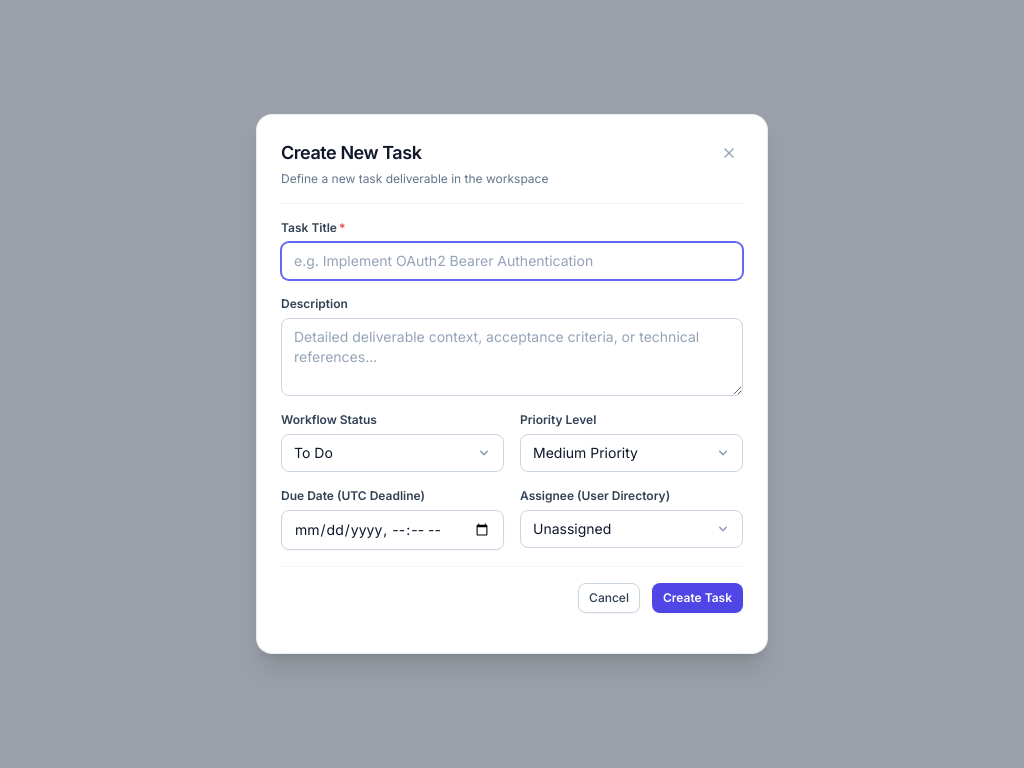
Test: TaskFormModal › validates client-side constraints (title is required)
The width and height of the screenshot is (1024, 768).
Click the button "Create Task": click(698, 598) x1=652 y1=583 x2=743 y2=613
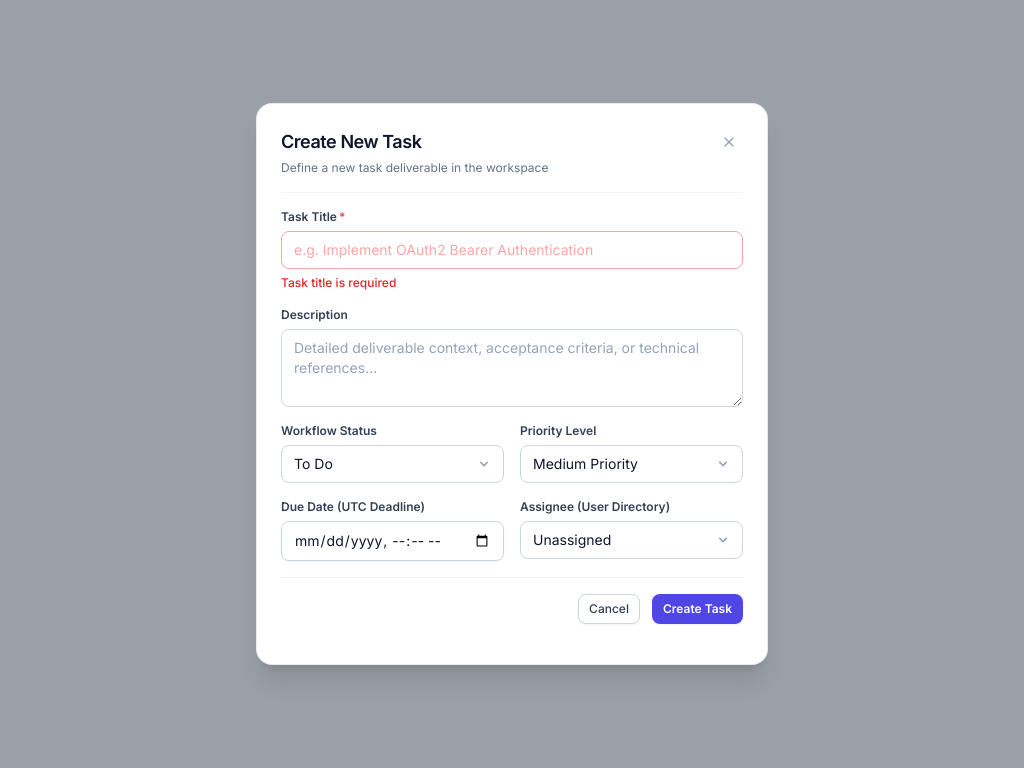
Expected: the text "Task title is required" is shown, x1=281 y1=275 x2=396 y2=290
